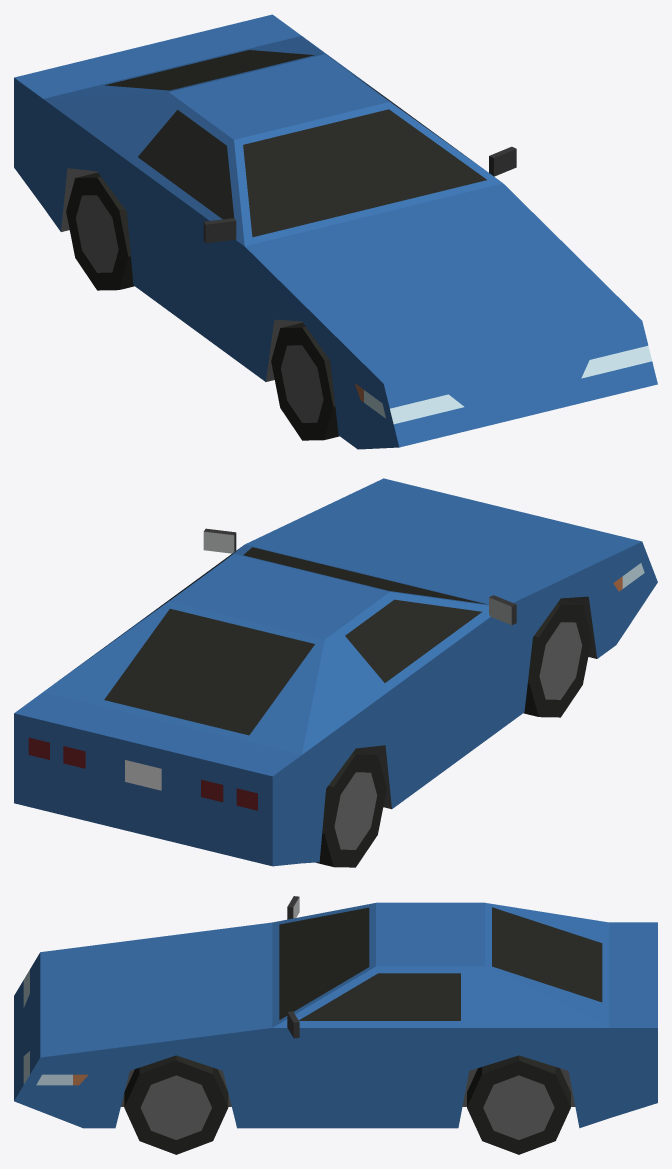
The model's file is Veh_Sports_Car_01_Blue.glb.
3 views of the same model, one above another, from view 1: azimuth 30°, elevation 25°; view 2: azimuth 150°, elevation 25°; view 3: azimuth 270°, elevation 25° (orthographic). The views are drawn at different scales.
Parts seen in each view (by area): view 1: Sports_Car_01_Blue, Wheel_RR, Wheel_FR; view 2: Sports_Car_01_Blue, Wheel_RR, Wheel_FR; view 3: Sports_Car_01_Blue, Wheel_RL, Wheel_FL.
Boxes of the visible parts, bbox=[...] form: Sports_Car_01_Blue: bbox=[14, 14, 657, 449]; Wheel_RR: bbox=[66, 172, 134, 290]; Wheel_FR: bbox=[271, 322, 339, 440]; Sports_Car_01_Blue: bbox=[14, 478, 657, 866]; Wheel_RR: bbox=[316, 749, 386, 867]; Wheel_FR: bbox=[523, 599, 591, 717]; Sports_Car_01_Blue: bbox=[14, 896, 657, 1128]; Wheel_RL: bbox=[467, 1055, 570, 1154]; Wheel_FL: bbox=[124, 1055, 228, 1154].
Size of the model in its own units: 1.13 by 0.6973 by 2.43.
1 material, 1 textured.
